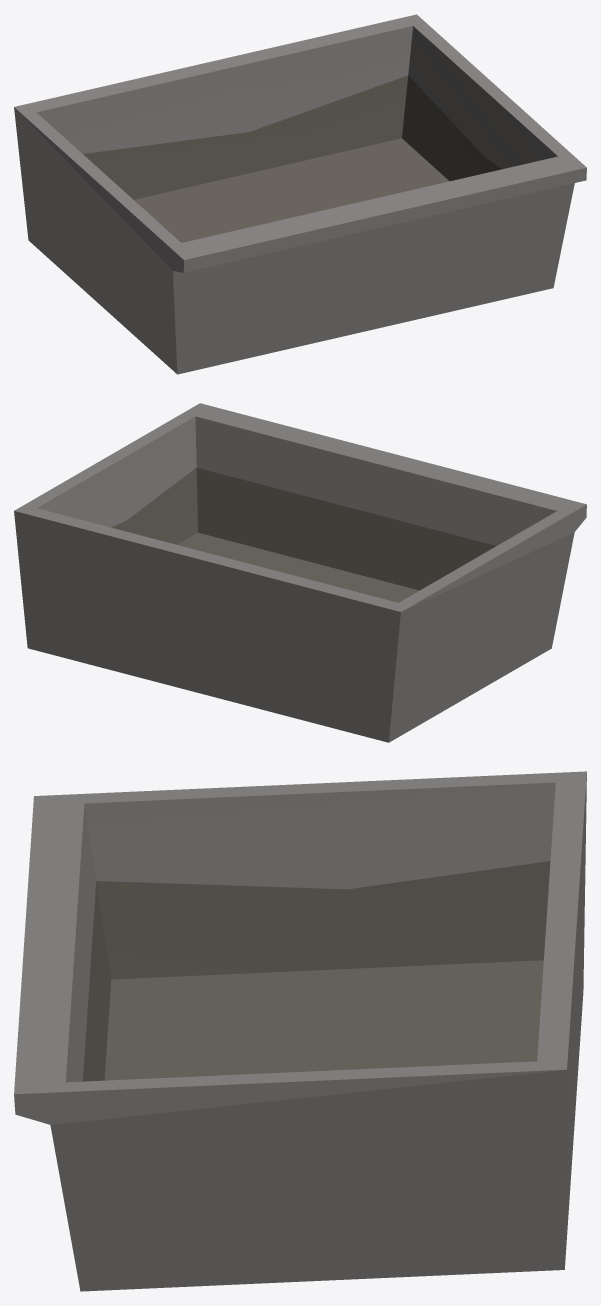
Rendered from SM_Prop_Kitchen_Fridge_Tray_01.obj.
The picture shows the model from 3 angles, top to bottom: view 1: azimuth 30°, elevation 25°; view 2: azimuth 150°, elevation 25°; view 3: azimuth 270°, elevation 25°; orthographic projection. The views are drawn at different scales.
Visible parts, largest first — view 1: SM_Prop_Kitchen_Fridge_Tray_01_0; view 2: SM_Prop_Kitchen_Fridge_Tray_01_0; view 3: SM_Prop_Kitchen_Fridge_Tray_01_0.
Part boxes in pixels (<box>): SM_Prop_Kitchen_Fridge_Tray_01_0: <box>14,14,586,374</box>; SM_Prop_Kitchen_Fridge_Tray_01_0: <box>14,403,586,742</box>; SM_Prop_Kitchen_Fridge_Tray_01_0: <box>14,771,586,1291</box>.
Size of the model in its own units: 0.9154 by 0.3328 by 0.7251.
1 material, 1 textured.
